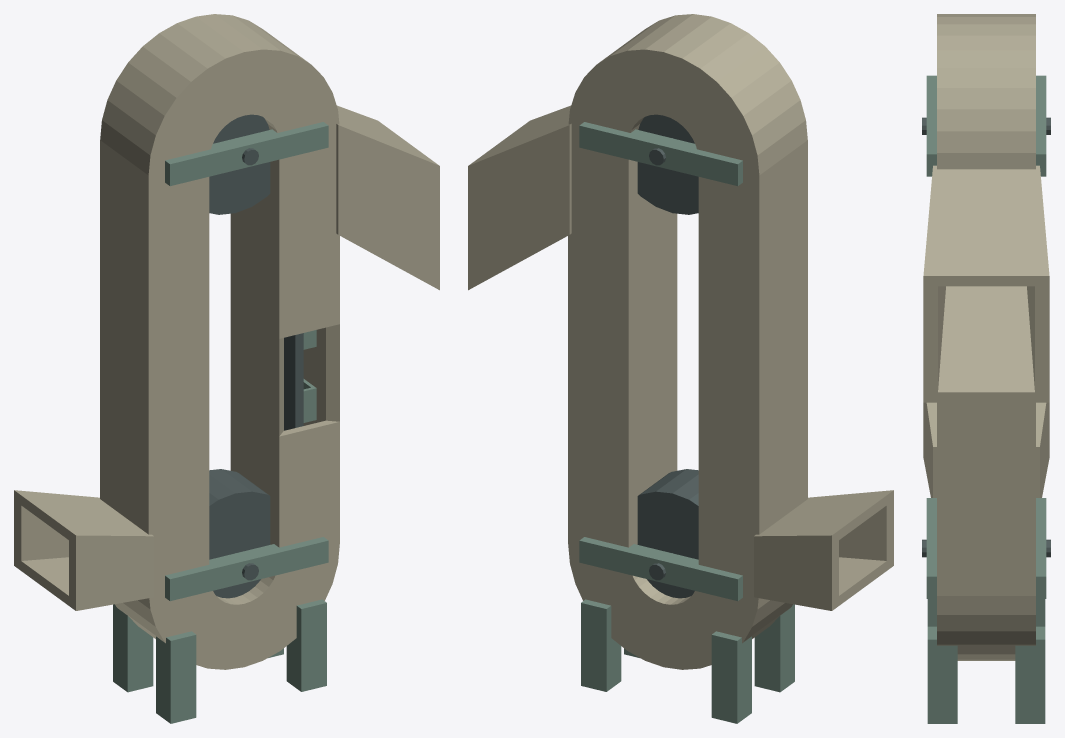
The picture shows the model from 3 angles, left to right: view 1: azimuth 30°, elevation 25°; view 2: azimuth 150°, elevation 25°; view 3: azimuth 270°, elevation 25°; orthographic projection.
Visible parts, largest first — view 1: WholeTwinHollowTrunksAndReturnHoods, WholeHighDownwardOutletDuct, WholeLowOpenFeedDuct, LowerWholeTurningDrum, LowerWholeBearingBridge-1, UpperWholeBearingBridge-1, WholeGroundSupportFoot11, UpperWholeTurningDrum, WholeGroundSupportFoot21, WholeGroundSupportFoot12, WholeContinuousInternalBucketBelt; view 2: WholeTwinHollowTrunksAndReturnHoods, WholeHighDownwardOutletDuct, WholeLowOpenFeedDuct, LowerWholeTurningDrum, LowerWholeBearingBridge1, UpperWholeBearingBridge1, WholeGroundSupportFoot12, UpperWholeTurningDrum, WholeGroundSupportFoot22, WholeGroundSupportFoot11; view 3: WholeTwinHollowTrunksAndReturnHoods, WholeHighDownwardOutletDuct, WholeGroundSupportFoot21, WholeGroundSupportFoot22, WholeLowOpenFeedDuct, LowerWholeBearingBridge-1, LowerWholeBearingBridge1, UpperWholeBearingBridge-1, UpperWholeBearingBridge1, WholeGroundSupportFoot11, WholeGroundSupportFoot12.
Boxes of the visible parts, x1,y1,x2,y2 form: WholeTwinHollowTrunksAndReturnHoods: [100, 14, 339, 669]; WholeHighDownwardOutletDuct: [336, 105, 439, 290]; WholeLowOpenFeedDuct: [14, 490, 153, 610]; LowerWholeTurningDrum: [209, 469, 270, 598]; LowerWholeBearingBridge-1: [165, 537, 328, 601]; UpperWholeBearingBridge-1: [165, 122, 328, 186]; WholeGroundSupportFoot11: [156, 631, 196, 723]; UpperWholeTurningDrum: [209, 114, 270, 214]; WholeGroundSupportFoot21: [286, 599, 326, 691]; WholeGroundSupportFoot12: [113, 604, 153, 692]; WholeContinuousInternalBucketBelt: [284, 333, 303, 430]; WholeTwinHollowTrunksAndReturnHoods: [568, 14, 807, 669]; WholeHighDownwardOutletDuct: [468, 105, 571, 290]; WholeLowOpenFeedDuct: [754, 490, 893, 610]; LowerWholeTurningDrum: [637, 469, 698, 598]; LowerWholeBearingBridge1: [579, 537, 742, 601]; UpperWholeBearingBridge1: [579, 122, 742, 186]; WholeGroundSupportFoot12: [711, 631, 751, 723]; UpperWholeTurningDrum: [637, 114, 698, 214]; WholeGroundSupportFoot22: [581, 599, 621, 691]; WholeGroundSupportFoot11: [754, 604, 794, 692]; WholeTwinHollowTrunksAndReturnHoods: [937, 14, 1035, 660]; WholeHighDownwardOutletDuct: [923, 165, 1049, 402]; WholeGroundSupportFoot21: [927, 626, 957, 723]; WholeGroundSupportFoot22: [1015, 626, 1045, 723]; WholeLowOpenFeedDuct: [923, 402, 1049, 497]; LowerWholeBearingBridge-1: [926, 498, 936, 598]; LowerWholeBearingBridge1: [1036, 498, 1046, 598]; UpperWholeBearingBridge-1: [926, 75, 936, 176]; UpperWholeBearingBridge1: [1036, 75, 1046, 176]; WholeGroundSupportFoot11: [927, 599, 936, 626]; WholeGroundSupportFoot12: [1036, 599, 1045, 626].
Size of the model in its own units: 1.56 by 2.66 by 0.47.
